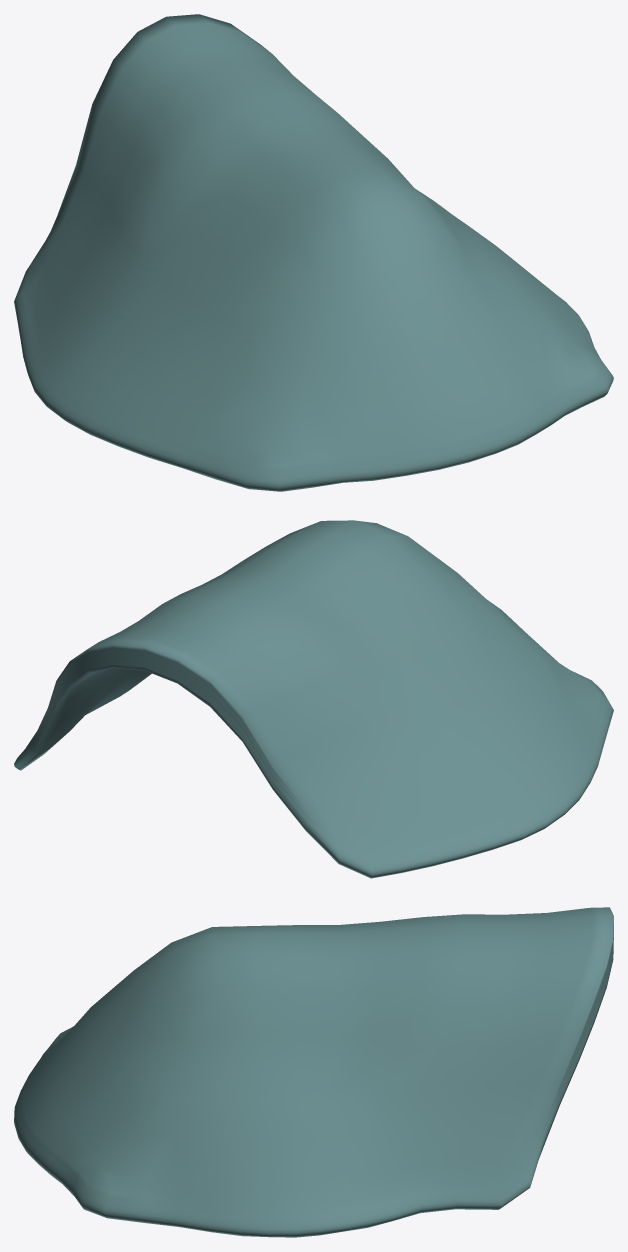
The model's file is BLANKET.fbx.
3 views of the same model, one above another, from view 1: azimuth 30°, elevation 25°; view 2: azimuth 150°, elevation 25°; view 3: azimuth 270°, elevation 25° (orthographic). The views are drawn at different scales.
Visible parts, largest first — view 1: BLANKET; view 2: BLANKET; view 3: BLANKET.
Boxes of the visible parts, x1,y1,x2,y2 form: BLANKET: [14, 14, 613, 491]; BLANKET: [14, 520, 613, 878]; BLANKET: [14, 907, 613, 1237].
Size of the model in its own units: 70.25 by 30.84 by 76.64.
